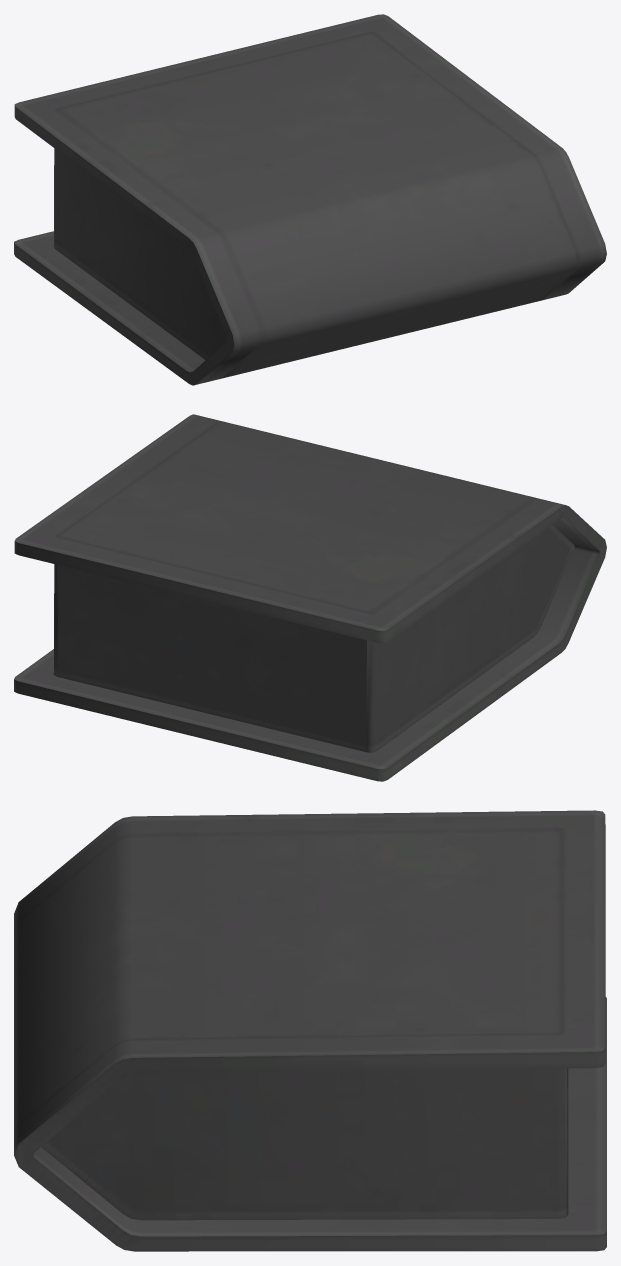
The model's file is Table.obj.
The picture shows the model from 3 angles, top to bottom: view 1: azimuth 30°, elevation 25°; view 2: azimuth 150°, elevation 25°; view 3: azimuth 270°, elevation 25°; orthographic projection. The views are drawn at different scales.
Parts seen in each view (by area): view 1: Table_TableMesh; view 2: Table_TableMesh; view 3: Table_TableMesh.
Part boxes in pixels (box(x1,y1,x2,y2)): Table_TableMesh: box(14, 14, 606, 385); Table_TableMesh: box(14, 414, 606, 781); Table_TableMesh: box(14, 810, 606, 1251).
Size of the model in its own units: 1.38 by 0.5309 by 1.43.
1 material, 1 textured.
